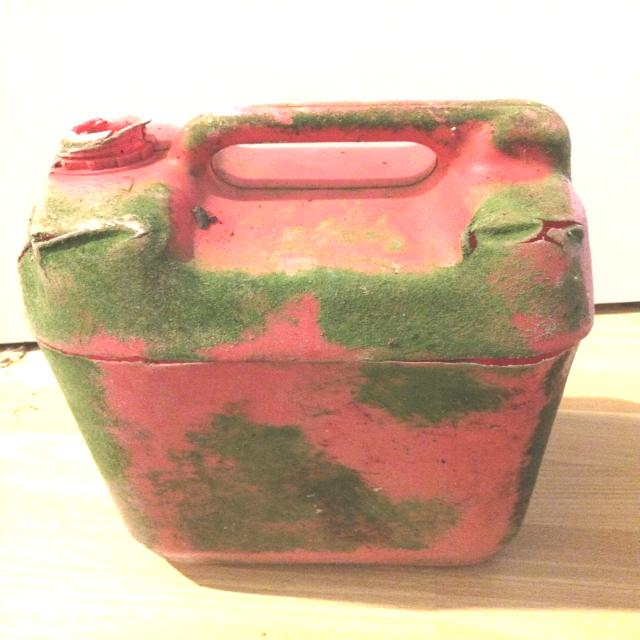Other plastic container: (16, 99, 595, 567)
